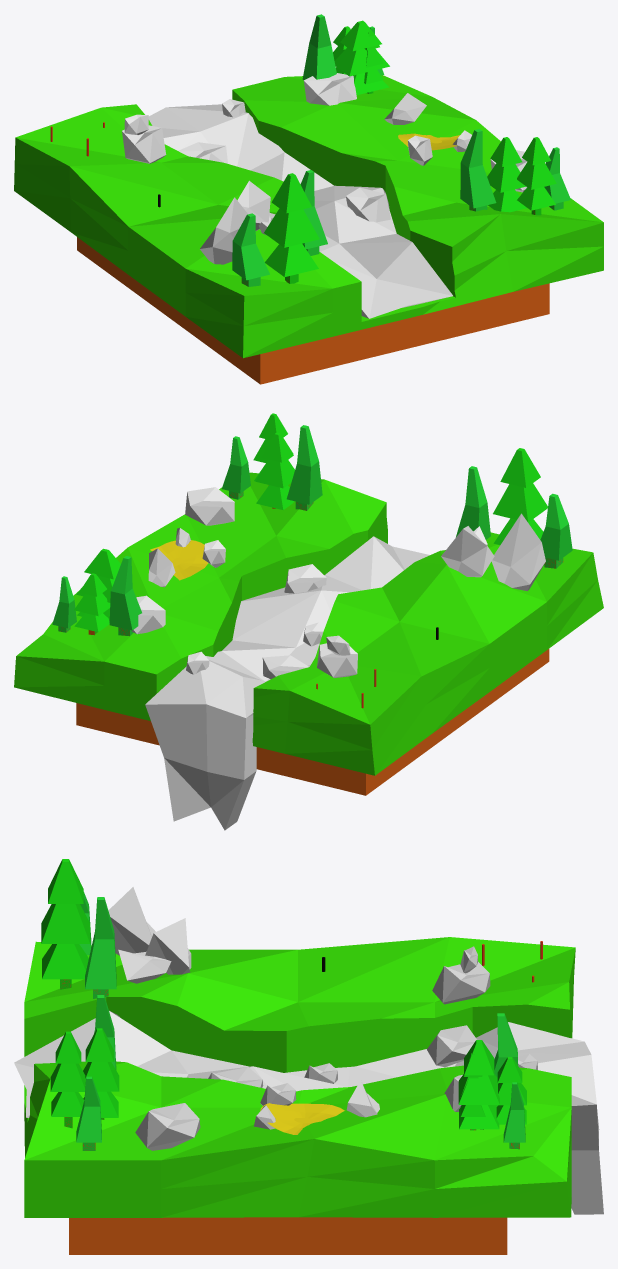
The model's file is Untitled.blend 0825.ground3.fbx.
3 renders of one model, top to bottom at view 1: azimuth 30°, elevation 25°; view 2: azimuth 150°, elevation 25°; view 3: azimuth 270°, elevation 25°, orthographic. The views are drawn at different scales.
Visible parts, largest first — view 1: 대지, 강물, 땅밑, 트리5, 트리3.001, 트리1, 트리2, 나무2, 나무5, 바위2, 나무3, 바위1.001 (+10 smaller); view 2: 대지, 강물, 땅밑, 트리5, 바위2, 트리1, 나무2, 나무3, 바위2.001, 나무5, 바위1, 트리3 (+11 smaller); view 3: 대지, 땅밑, 강물, 트리5, 트리3.001, 트리2, 바위1, 나무2.001, 트리1, 바위2, 바위1.006, 바위2.001 (+11 smaller).
Part boxes in pixels (x1,y1,x2,y2): 대지: (14, 75, 603, 358); 강물: (148, 104, 452, 318); 땅밑: (77, 237, 549, 384); 트리5: (264, 173, 319, 283); 트리3.001: (334, 20, 389, 94); 트리1: (487, 137, 526, 212); 트리2: (517, 137, 556, 215); 나무2: (460, 129, 496, 211); 나무5: (232, 213, 269, 286); 바위2: (200, 197, 247, 264); 나무3: (302, 14, 336, 80); 바위1.001: (303, 73, 356, 105); 대지: (14, 472, 603, 775); 강물: (145, 536, 429, 830); 땅밑: (76, 649, 549, 795); 트리5: (493, 448, 547, 544); 바위2: (491, 513, 545, 591); 트리1: (255, 432, 294, 509); 나무2: (286, 425, 322, 510); 나무3: (109, 556, 141, 636); 바위2.001: (441, 526, 494, 577); 나무5: (540, 493, 572, 568); 바위1: (185, 487, 234, 525); 트리3: (74, 573, 110, 635); 대지: (24, 937, 575, 1217); 땅밑: (69, 1217, 507, 1254); 강물: (14, 1011, 603, 1214); 트리5: (41, 859, 90, 989); 트리3.001: (458, 1040, 499, 1129); 트리2: (50, 1031, 85, 1128); 바위1: (135, 1103, 200, 1150); 나무2.001: (85, 897, 116, 998); 트리1: (83, 1028, 119, 1119); 바위2: (108, 887, 155, 955); 바위1.006: (432, 962, 490, 1004); 바위2.001: (145, 918, 191, 974).
Size of the model in its own units: 708 by 448 by 839.
